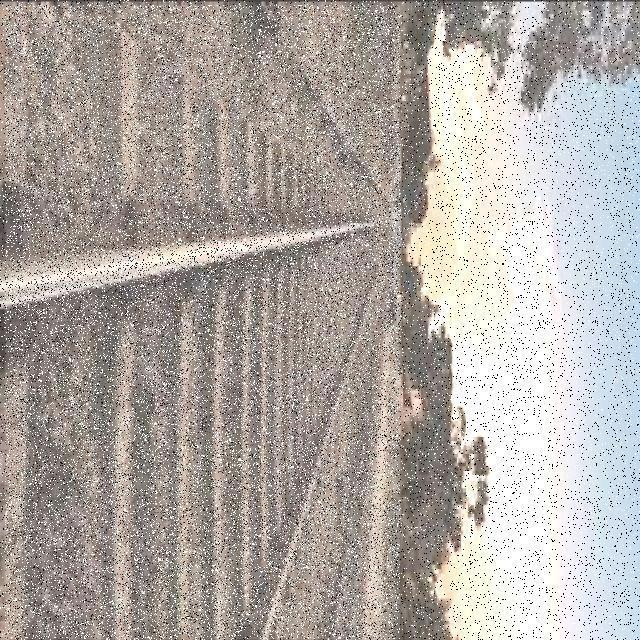rail: (6, 6, 401, 640)
